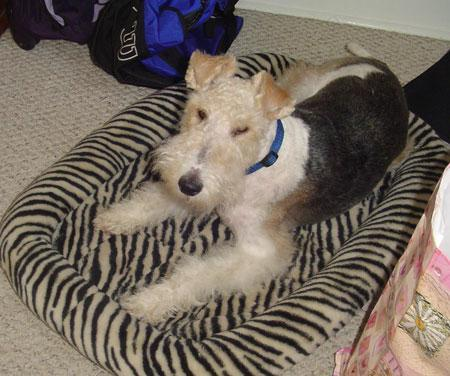wire-haired_fox_terrier: (92, 38, 411, 324)
